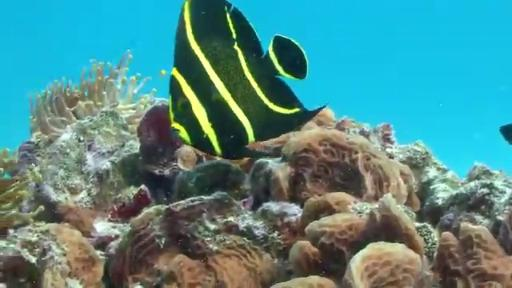Fish: (170, 0, 324, 159), (500, 124, 511, 144)
